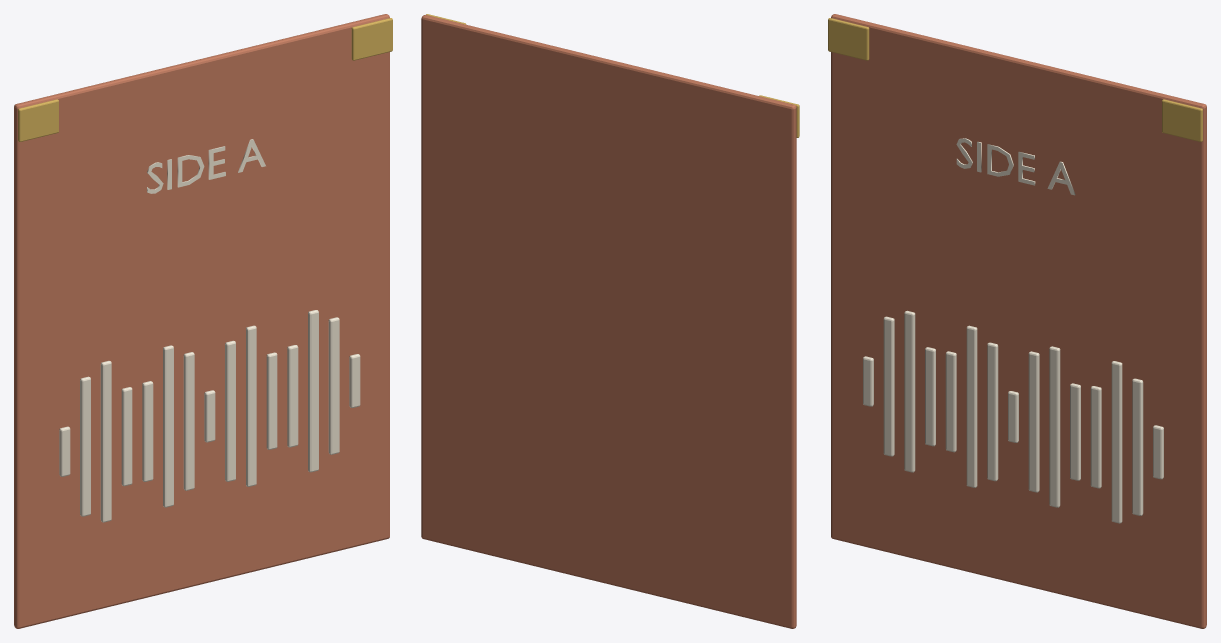
Rendered from poster_sound.glb.
3 renders of one model, left to right at view 1: azimuth 30°, elevation 25°; view 2: azimuth 150°, elevation 25°; view 3: azimuth 330°, elevation 25°, orthographic.
Visible parts, largest first — view 1: poster_sound_Mesh; view 2: poster_sound_Mesh; view 3: poster_sound_Mesh.
Boxes of the visible parts, box(x1,y1,x2,y2) form: poster_sound_Mesh: box(14, 14, 392, 628); poster_sound_Mesh: box(421, 14, 799, 628); poster_sound_Mesh: box(828, 14, 1206, 628).
Size of the model in its own units: 0.65 by 0.87 by 0.03.
